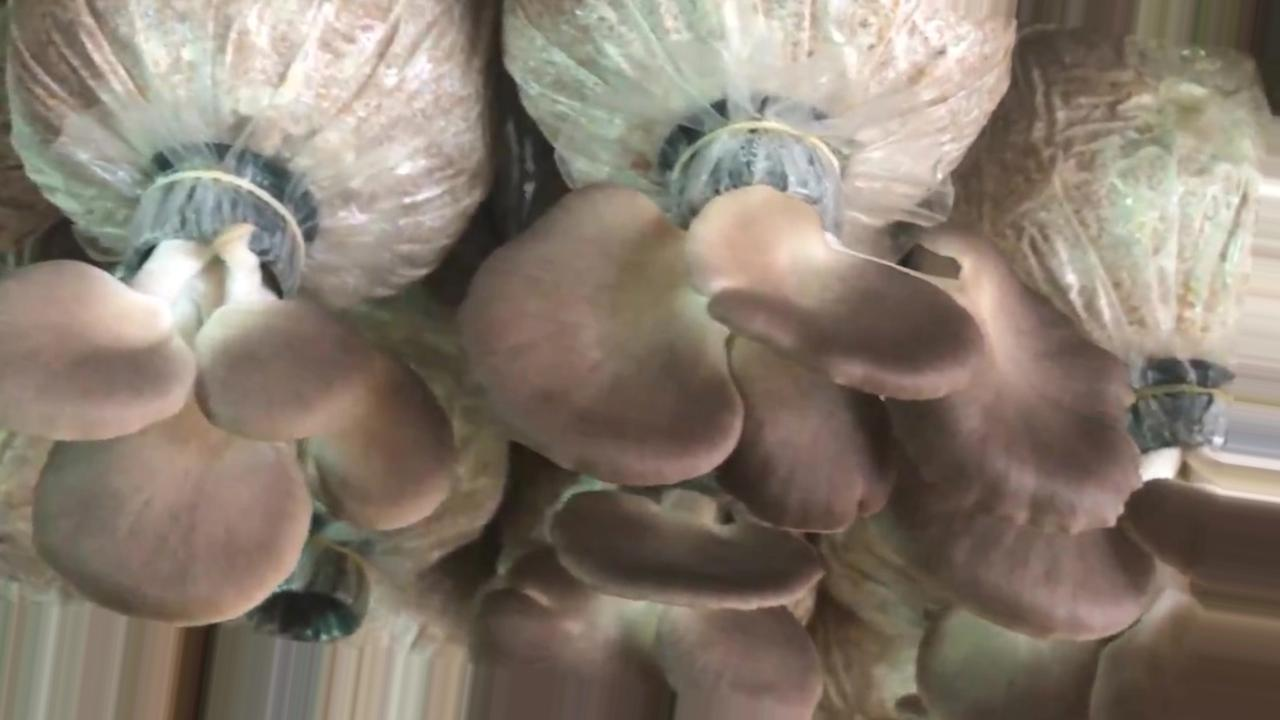nam: (466, 129, 1131, 610), (1, 167, 450, 624), (920, 390, 1280, 718), (468, 546, 823, 720)
